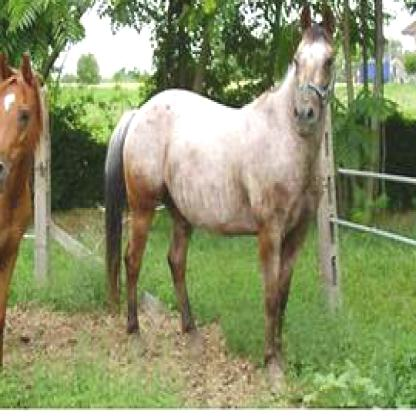horse: (105, 0, 334, 366), (2, 56, 46, 368)
